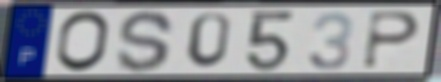0: (182, 12, 233, 71)
3: (307, 10, 356, 71)
5: (243, 9, 297, 73)
O: (53, 9, 112, 74)
P: (359, 10, 423, 71)
S: (114, 9, 178, 75)
